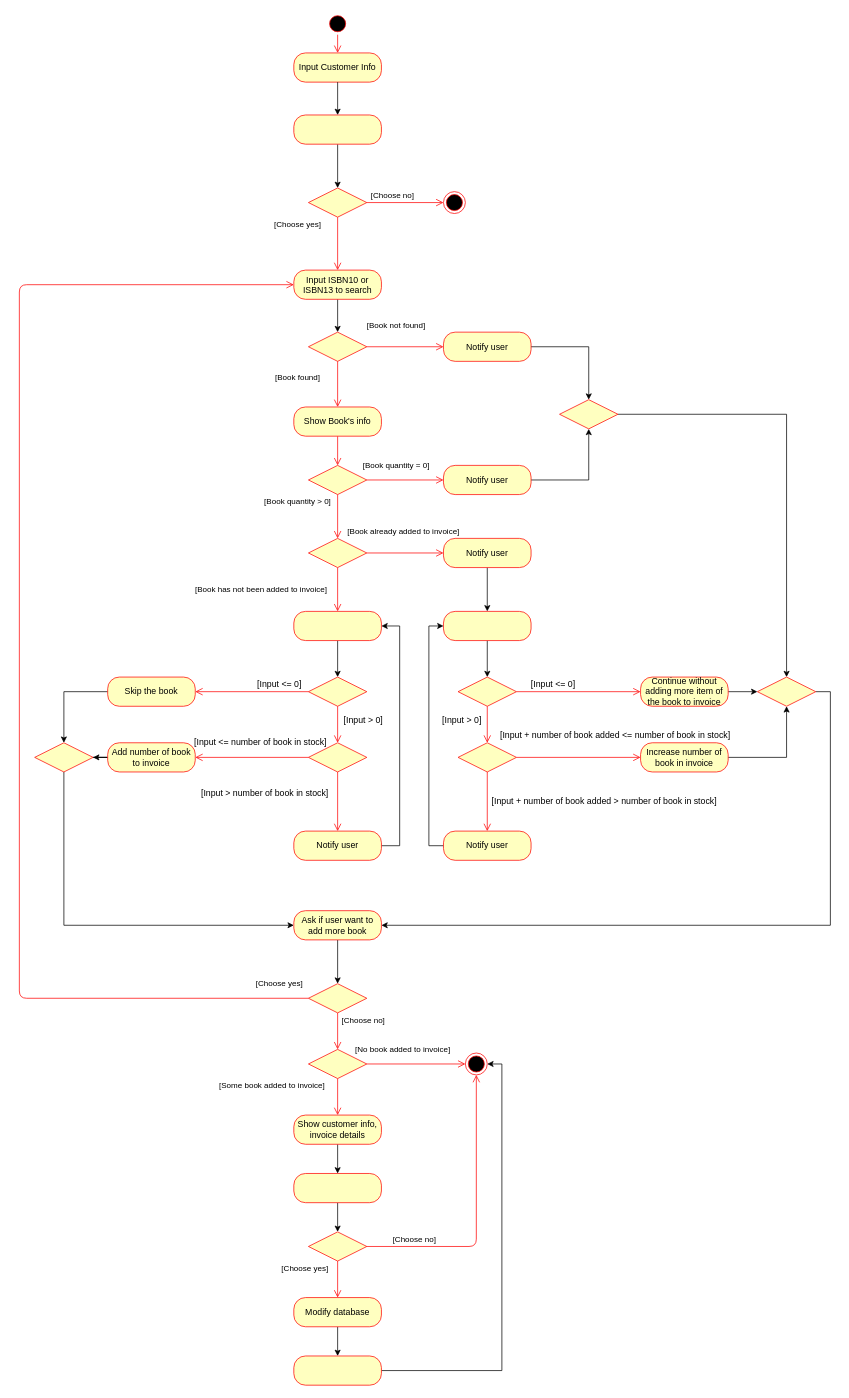
Image size: 849x1398. Some labels were removed from this diagram. The box of each missing label's shape, as (x1, y1, x2, y2) in pixels:
Ask if user want to continue: (293, 114, 381, 144)
Ask user to commit invoice: (293, 1173, 381, 1203)
Input number of book to add more: (443, 611, 531, 641)
Input number of book to buy: (293, 611, 381, 641)
Print invoice: (293, 1355, 381, 1385)
